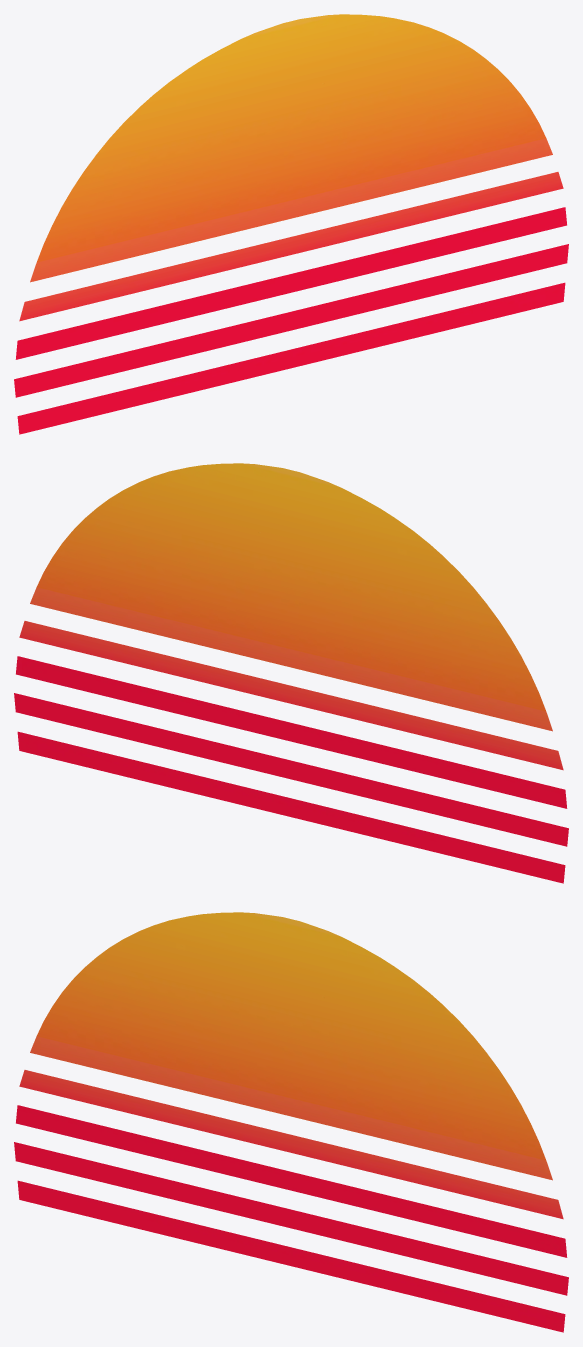
The model's file is synthSunset.glb.
3 renders of one model, top to bottom at view 1: azimuth 30°, elevation 25°; view 2: azimuth 150°, elevation 25°; view 3: azimuth 330°, elevation 25°, orthographic.
Parts seen in each view (by area): view 1: Sun; view 2: Sun; view 3: Sun.
Part boxes in pixels (x1,y1,x2,y2): Sun: (14, 14, 568, 434); Sun: (14, 463, 568, 883); Sun: (14, 912, 568, 1332).
Bounding box in the file's own units: 1.99 × 1.19 × 0.
1 material, 1 textured.
